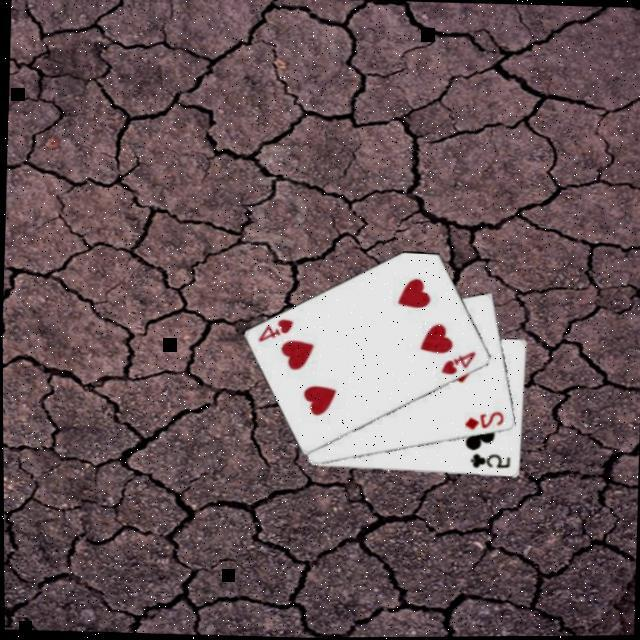2D: (460, 406, 506, 432)
4H: (253, 314, 295, 344), (436, 346, 476, 376)
5C: (465, 448, 511, 471)
